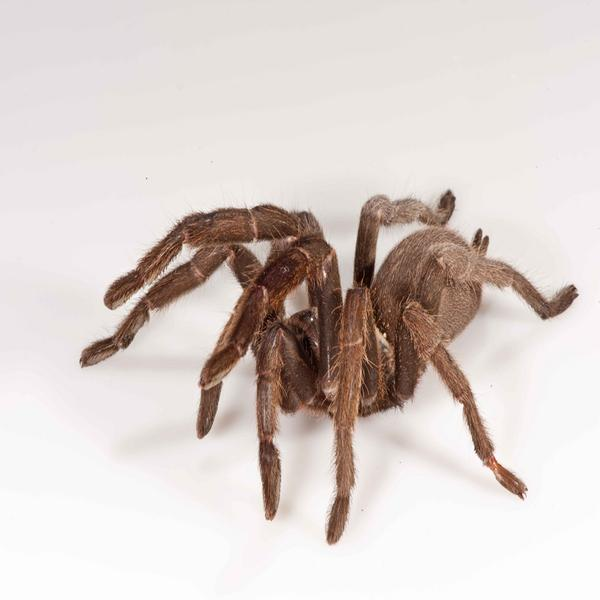Tarantula Spider: (93, 191, 574, 540)
